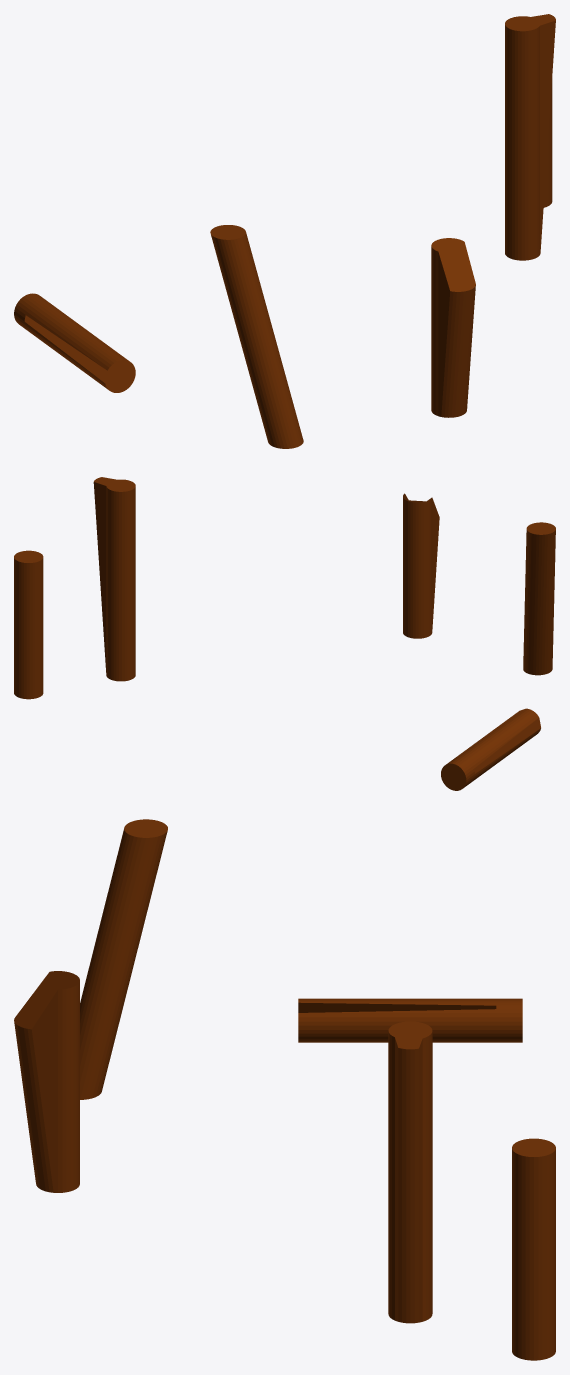
3 renders of one model, top to bottom at view 1: azimuth 30°, elevation 25°; view 2: azimuth 150°, elevation 25°; view 3: azimuth 270°, elevation 25°, orthographic. The views are drawn at different scales.
Parts seen in each view (by area): view 1: Cylinder.002, Cylinder.003, Cylinder.001, Cylinder.004, Cylinder; view 2: Cylinder.002, Cylinder.001, Cylinder.003, Cylinder, Cylinder.004; view 3: Cylinder.002, Cylinder.001, Cylinder.003, Cylinder, Cylinder.004.
Part boxes in pixels (box(x1,y1,x2,y2)): Cylinder.002: box(505, 14, 555, 260); Cylinder.003: box(210, 225, 303, 448); Cylinder.001: box(431, 238, 475, 417); Cylinder.004: box(14, 293, 135, 392); Cylinder: box(543, 78, 552, 207); Cylinder.002: box(93, 477, 135, 681); Cylinder.001: box(403, 493, 439, 638); Cylinder.003: box(523, 522, 555, 675); Cylinder: box(14, 550, 43, 699); Cylinder.004: box(441, 708, 540, 790); Cylinder.002: box(388, 1021, 432, 1323); Cylinder.001: box(14, 971, 79, 1192); Cylinder.003: box(80, 819, 167, 1099); Cylinder: box(512, 1138, 555, 1360); Cylinder.004: box(298, 998, 522, 1042).
Size of what is drawn, in the model's own units: 35 by 14.19 by 24.61.
